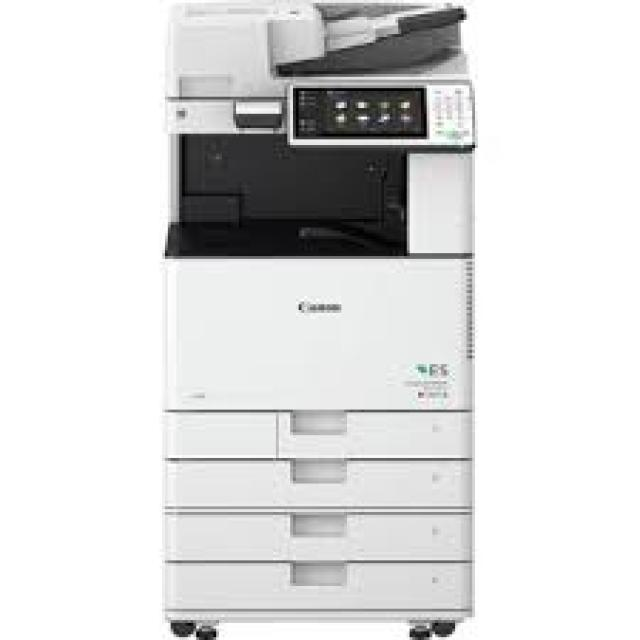printer: (159, 0, 474, 412)
